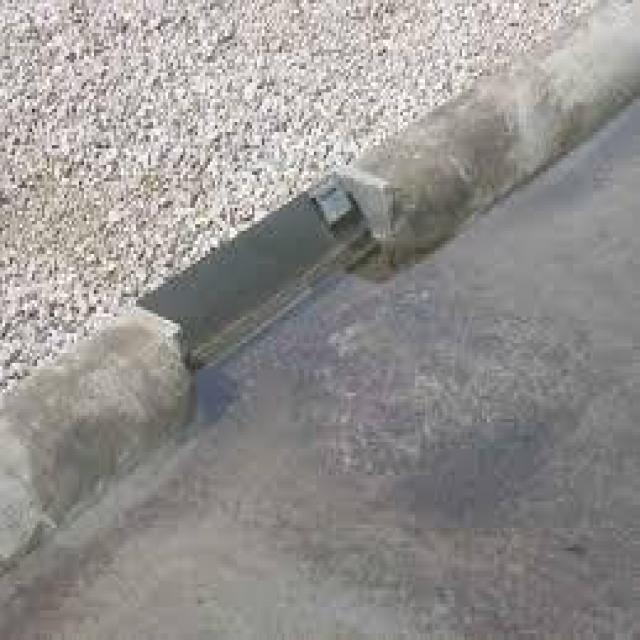curb: (1, 217, 275, 515), (264, 96, 450, 335), (473, 2, 636, 203)
